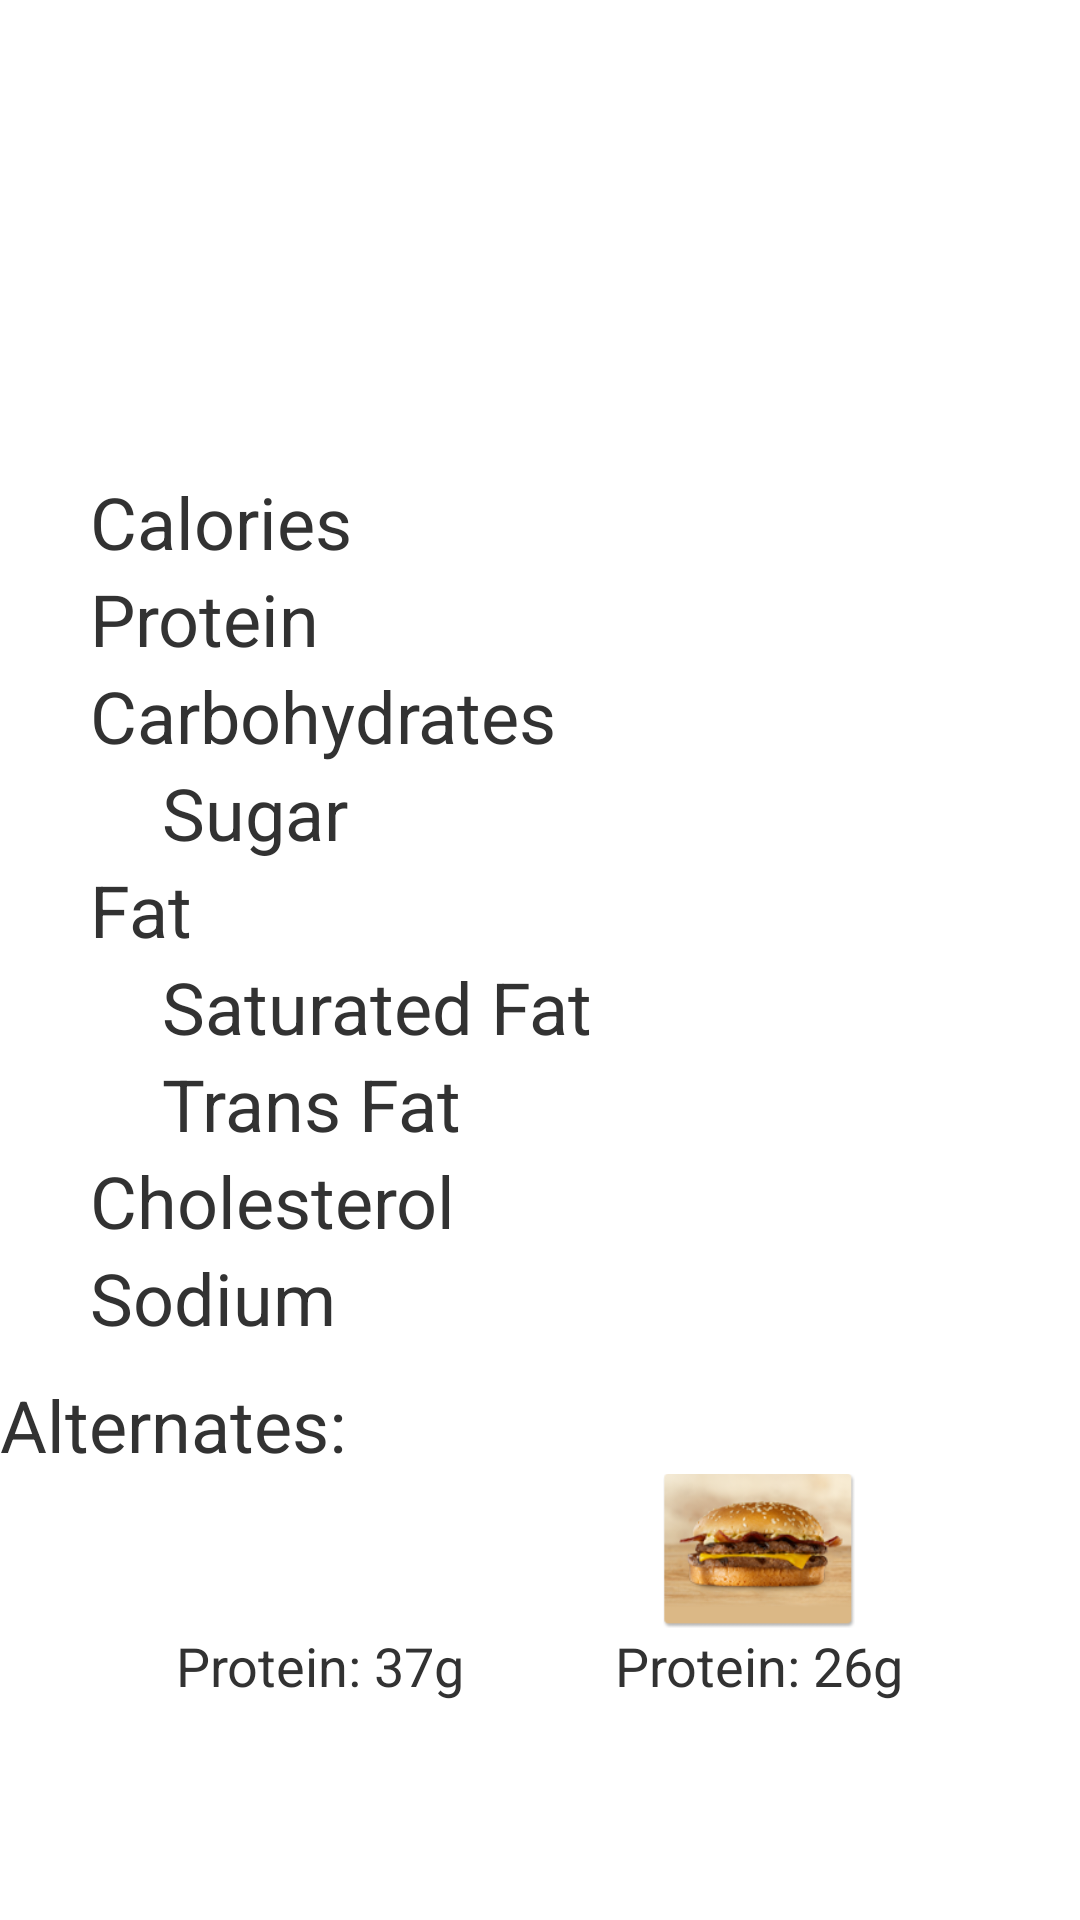

Locate icon controls on the screen. Image size 1080 × 1920, boxes as (x1, y1, x2, y2).
double stacker: (664, 1474, 853, 1627)
